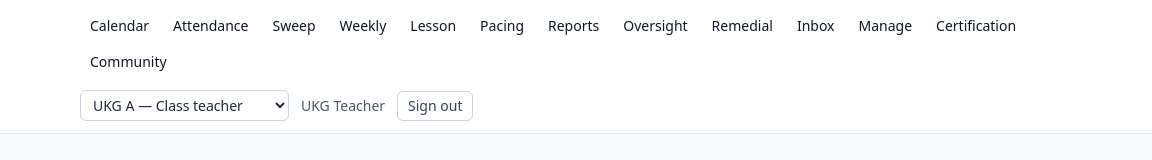
Test: TeacherNav › updates visible links when switching assignment
Expected: the link "Oversight" is shown, top-left (623, 16), bottom-right (688, 35)
Select "Grade 1 A — Mathematics" in the dropdown named "Section and subject" at (184, 106), box top-left (80, 90), bottom-right (289, 121)
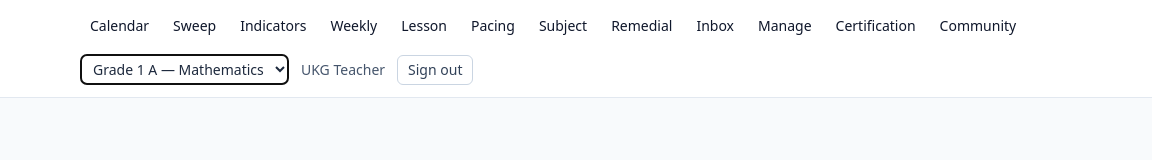
Expected: the link "Subject" is shown, top-left (539, 16), bottom-right (587, 35)
Expected: the link "Oversight" is gone
